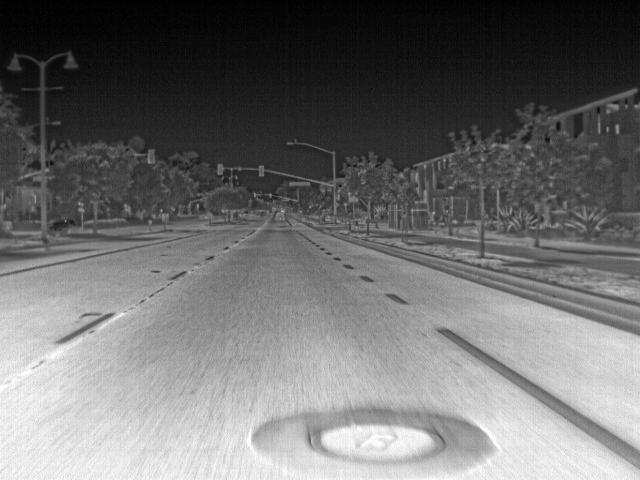car: (46, 218, 76, 236), (196, 209, 212, 222), (273, 211, 285, 222)
person: (442, 203, 449, 225), (429, 208, 437, 226)
